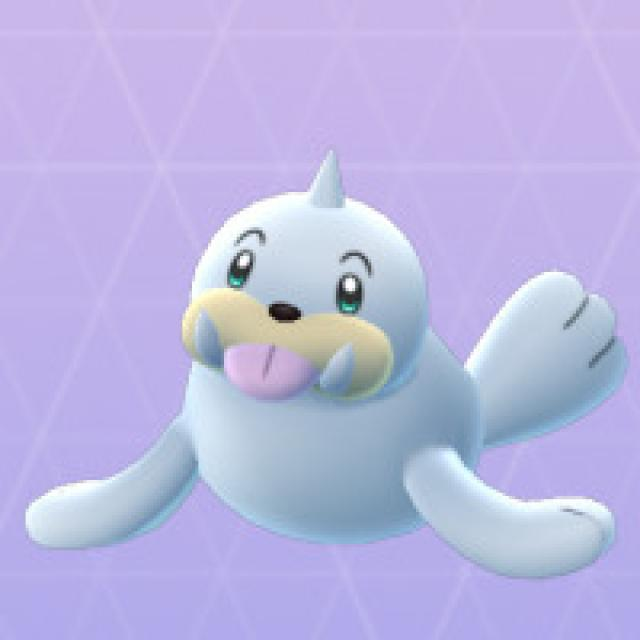Seel: (118, 151, 614, 555)
